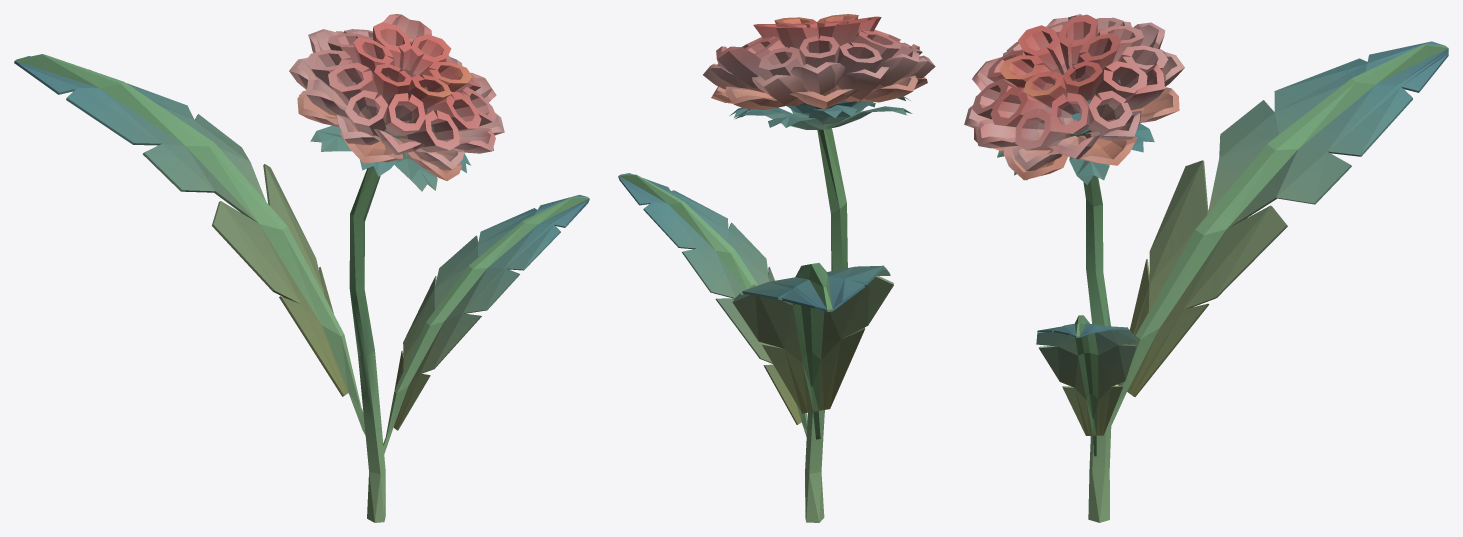
File: Dahlia_Type01_Salmon.fbx
3 views of the same model, side by side, from view 1: azimuth 30°, elevation 25°; view 2: azimuth 150°, elevation 25°; view 3: azimuth 270°, elevation 25° (orthographic). The views are drawn at different scales.
Parts seen in each view (by area): view 1: Dahlia_Type01_Salmon; view 2: Dahlia_Type01_Salmon; view 3: Dahlia_Type01_Salmon.
Part boxes in pixels (box(x1,y1,x2,y2)): Dahlia_Type01_Salmon: box(14, 14, 589, 522); Dahlia_Type01_Salmon: box(618, 14, 935, 522); Dahlia_Type01_Salmon: box(964, 14, 1448, 522).
Size of the model in its own units: 35.05 by 41.35 by 37.09.
